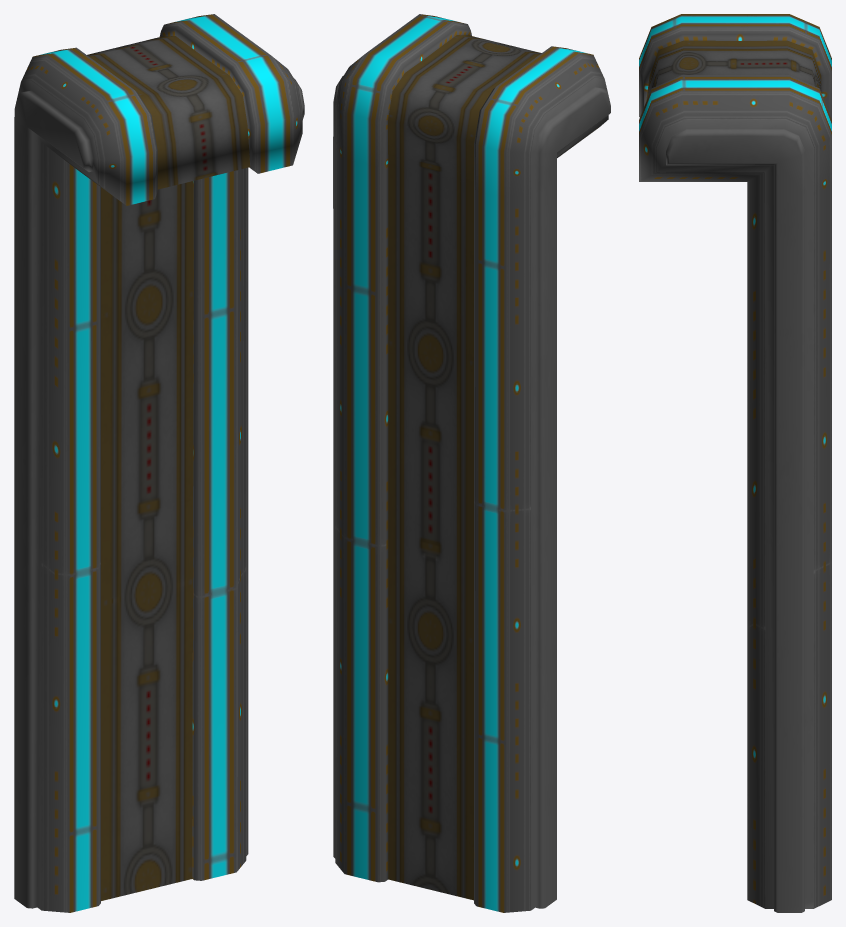
The model's file is pumps 2.obj.
The picture shows the model from 3 angles, left to right: view 1: azimuth 30°, elevation 25°; view 2: azimuth 150°, elevation 25°; view 3: azimuth 270°, elevation 25°; orthographic projection. The views are drawn at different scales.
Visible parts, largest first — view 1: pump corroridor_4; view 2: pump corroridor_4; view 3: pump corroridor_4.
Boxes of the visible parts, x1=… form: pump corroridor_4: x1=14, y1=14, x2=304, y2=912; pump corroridor_4: x1=333, y1=14, x2=610, y2=912; pump corroridor_4: x1=639, y1=14, x2=831, y2=912.
Size of the model in its own units: 5.02 by 18.25 by 3.95.
Materials: 1 (1 with a texture image).
